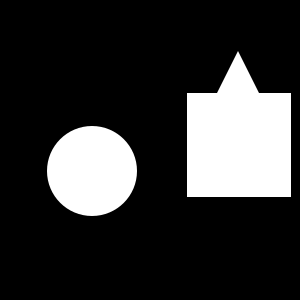circle: (187, 93, 291, 197)
rectangle: (47, 126, 137, 216)
triangle: (195, 51, 281, 137)
